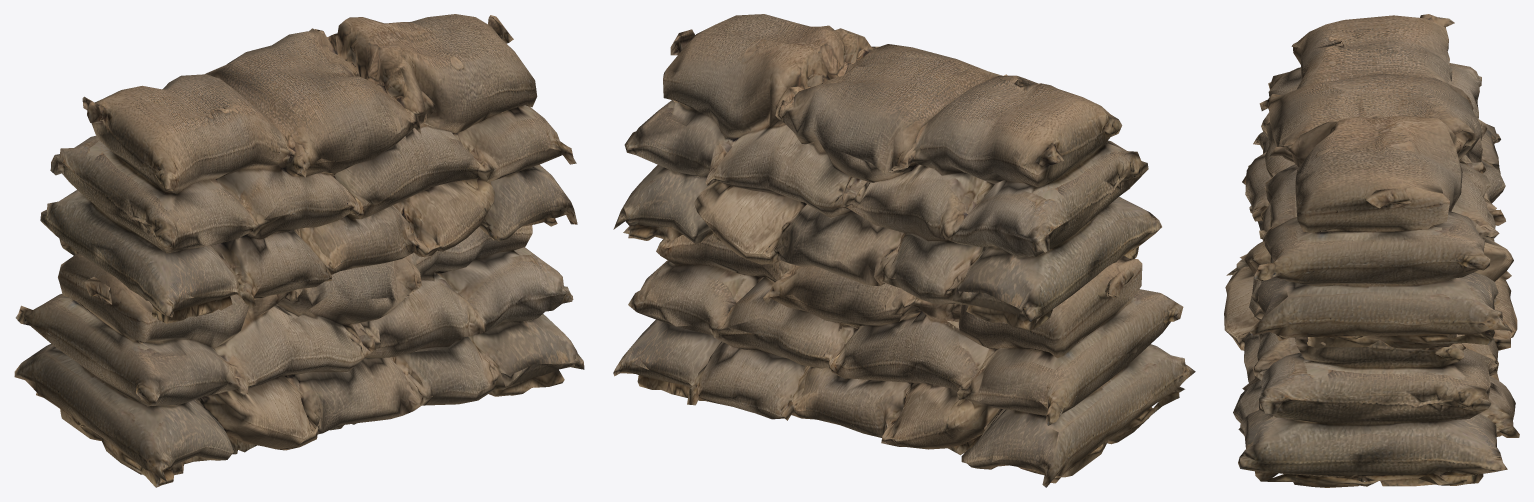
The model's file is CP_ScannedTwoModules_source.fbx.
3 renders of one model, left to right at view 1: azimuth 30°, elevation 25°; view 2: azimuth 150°, elevation 25°; view 3: azimuth 270°, elevation 25°, orthographic. The views are drawn at different scales.
Visible parts, largest first — view 1: CP_WholeScan_Upper, CP_WholeScan_Lower; view 2: CP_WholeScan_Upper, CP_WholeScan_Lower; view 3: CP_WholeScan_Upper, CP_WholeScan_Lower.
Part boxes in pixels (left/top/right/bottom): CP_WholeScan_Upper: left=40, top=14, right=577, bottom=323; CP_WholeScan_Lower: left=14, top=225, right=584, bottom=487; CP_WholeScan_Upper: left=613, top=14, right=1161, bottom=330; CP_WholeScan_Lower: left=613, top=234, right=1195, bottom=487; CP_WholeScan_Upper: left=1242, top=14, right=1513, bottom=348; CP_WholeScan_Lower: left=1224, top=205, right=1519, bottom=487.
Bounding box in the file's own units: 1.6 × 1.2 × 1.
